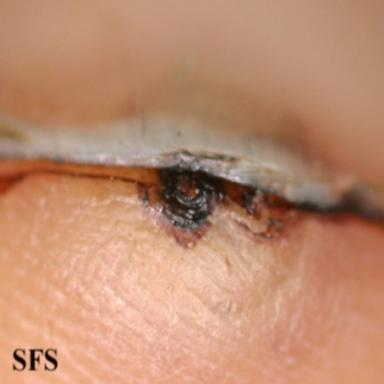Tungiasis: (138, 167, 301, 247)
